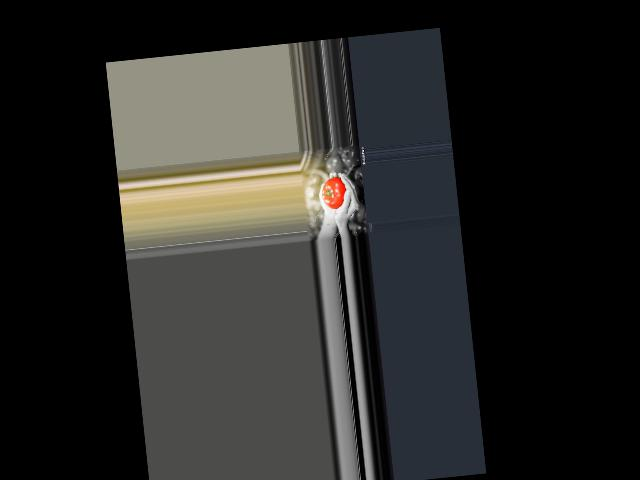tomato: (320, 176, 348, 210)
